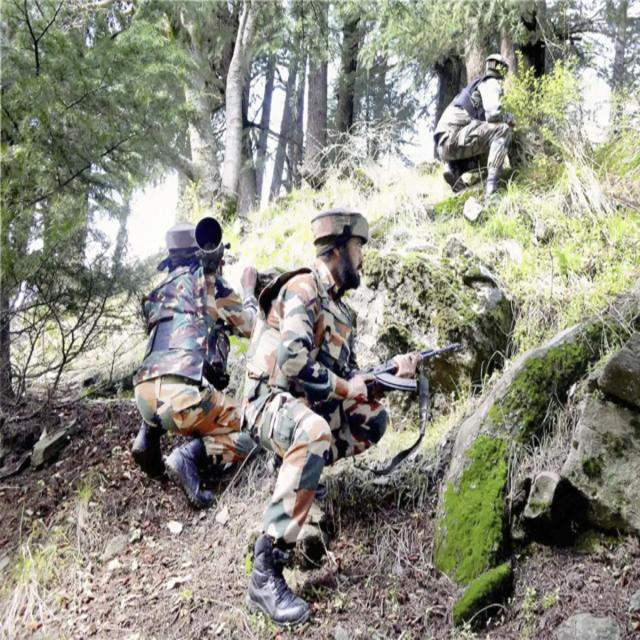Forest: (0, 0, 640, 640)
Militant: (236, 190, 411, 640), (123, 181, 250, 522), (432, 26, 543, 223)
